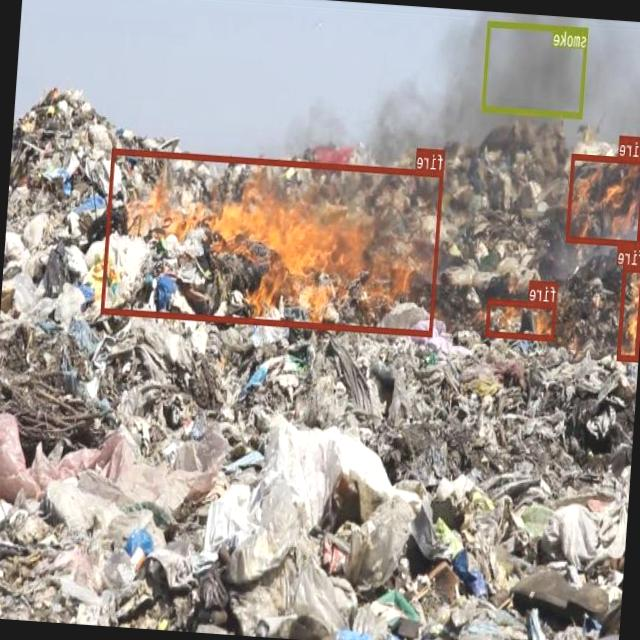fire: (101, 146, 444, 335), (565, 151, 640, 245), (486, 297, 556, 340), (617, 263, 640, 359)
smoke: (482, 19, 589, 117)
